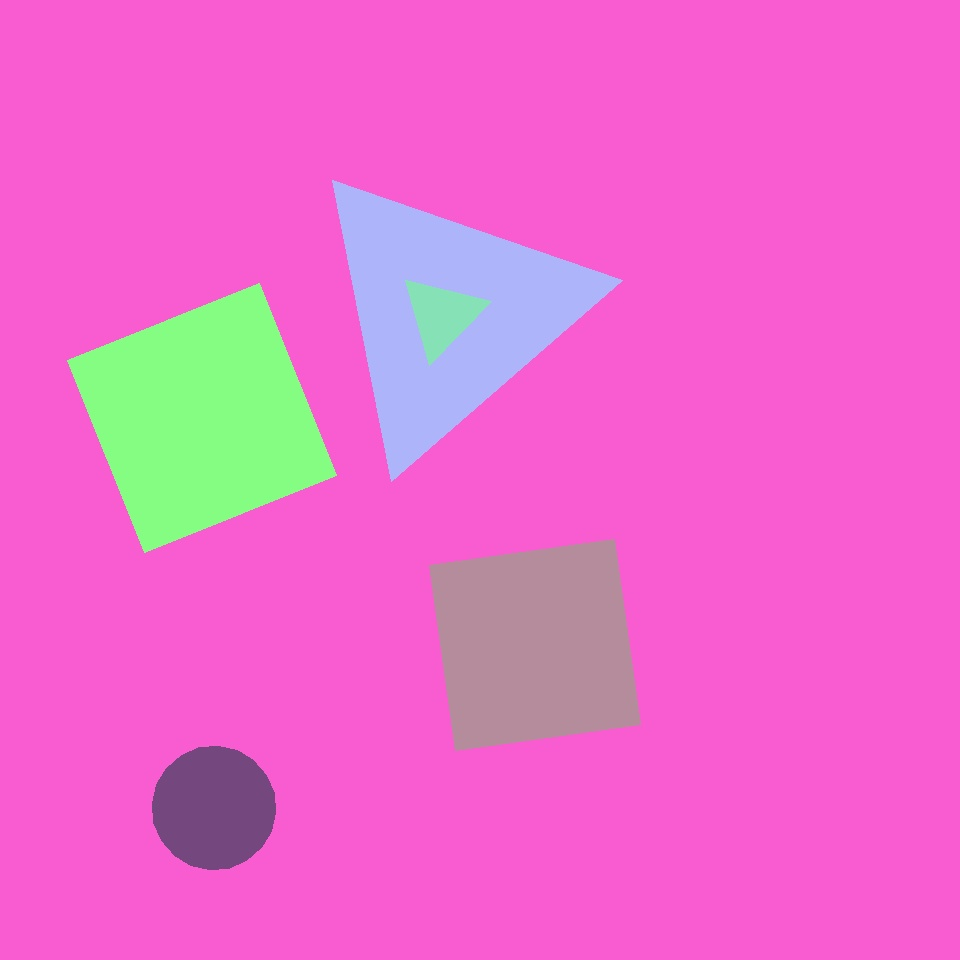circle: (304, 164, 594, 464), (399, 274, 485, 358)
square: (556, 462, 861, 767), (241, 366, 546, 671), (68, 284, 336, 552), (579, 686, 815, 923), (430, 540, 640, 750), (418, 596, 592, 771)
triangle: (527, 456, 832, 761), (523, 345, 752, 573), (153, 746, 276, 870)
